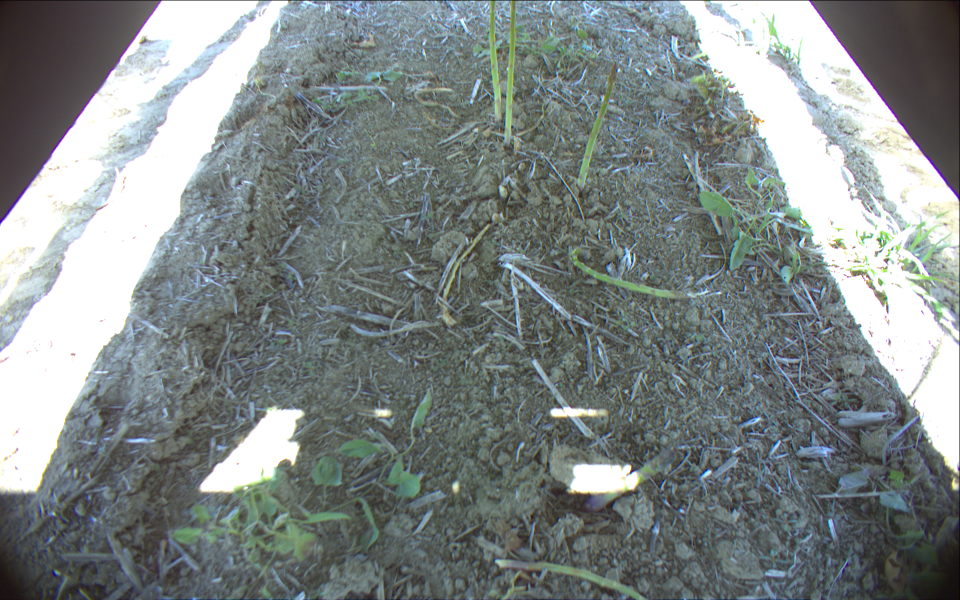aspa: (571, 60, 619, 192), (501, 1, 520, 149), (485, 1, 506, 123)
